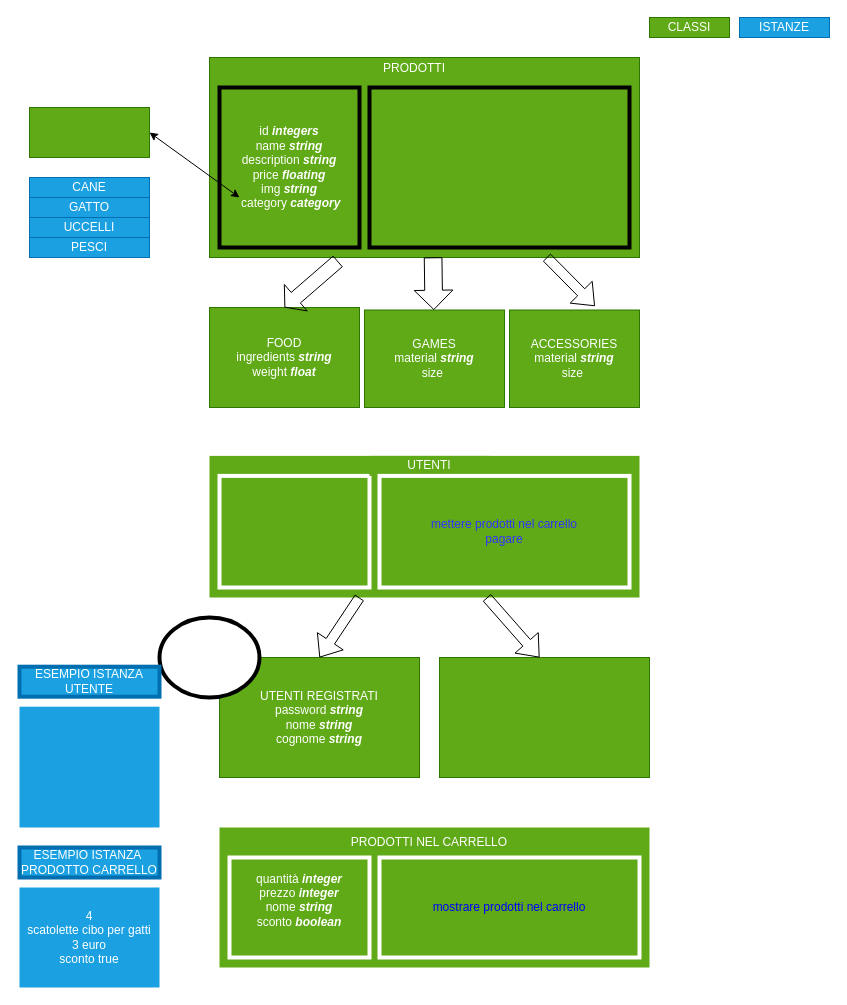
Some shapes in this 847 by 1005 pixel diagram are drawn without their labels. Each missing label, with the centre of its shape:
CATEGORY specie string: (89,132)
create($fileName, $className) ritorna un array di istanze della classe: (499,167)
FORM??: (209,657)
id = 4 Paolo Rossi password carta scaduta(false): (89,766)
ID cookies??? carta di credito boolean: (294,531)
UTENTI NON REGISTRATI: (544,717)
